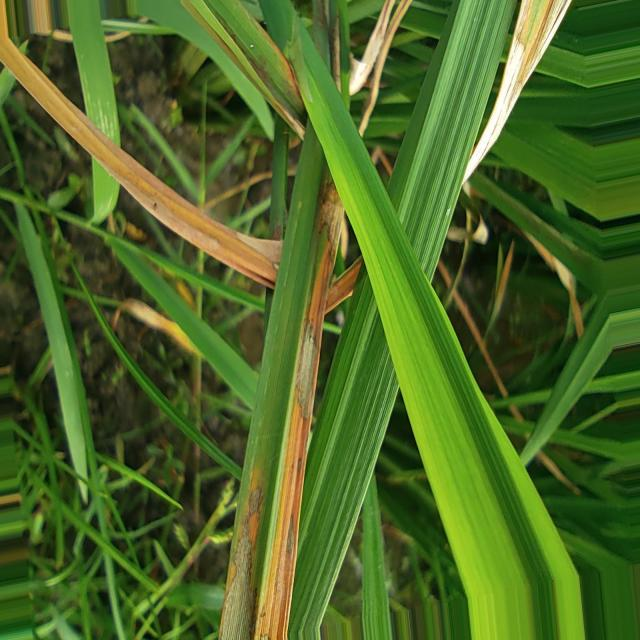Rice Tungro: (0, 14, 278, 288), (255, 180, 344, 638), (464, 37, 528, 179), (220, 483, 265, 638)
